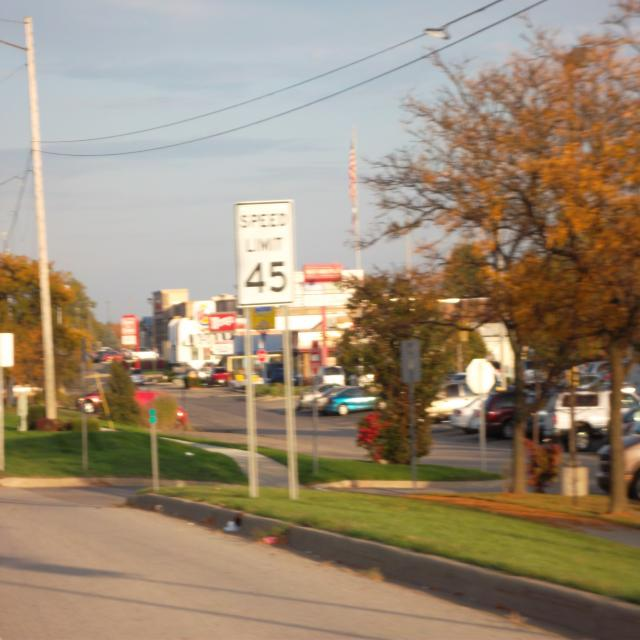regulatory: (232, 198, 297, 310)
